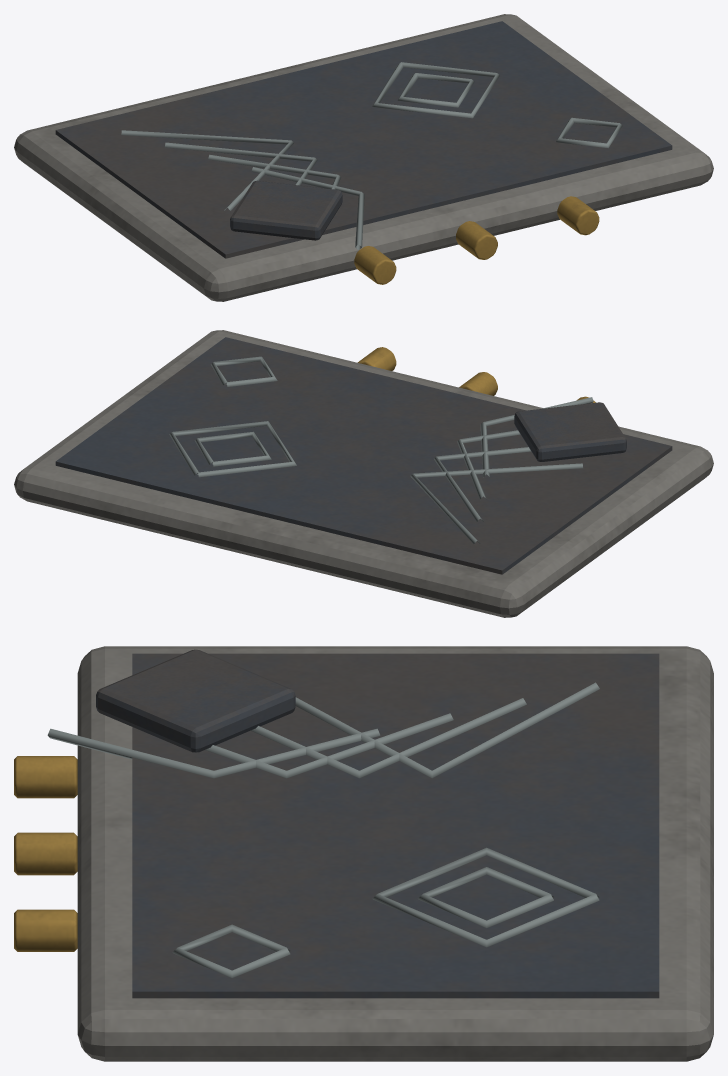
File: prop_husk_circuit_01.gltf
3 views of the same model, one above another, from view 1: azimuth 30°, elevation 25°; view 2: azimuth 150°, elevation 25°; view 3: azimuth 270°, elevation 25° (orthographic). The views are drawn at different scales.
Parts seen in each view (by area): view 1: prop_husk_circuit_01_item_atlas_01; view 2: prop_husk_circuit_01_item_atlas_01; view 3: prop_husk_circuit_01_item_atlas_01.
Boxes of the visible parts, bbox=[...] form: prop_husk_circuit_01_item_atlas_01: bbox=[14, 14, 713, 301]; prop_husk_circuit_01_item_atlas_01: bbox=[14, 330, 713, 617]; prop_husk_circuit_01_item_atlas_01: bbox=[14, 646, 713, 1061].
Bounding box in the file's own units: 0.1 × 0.01 × 0.077.
1 material, 1 textured.
